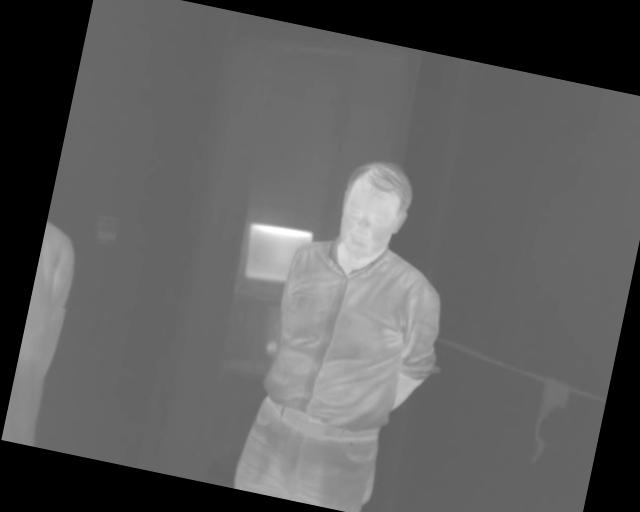face: (329, 153, 418, 268)
